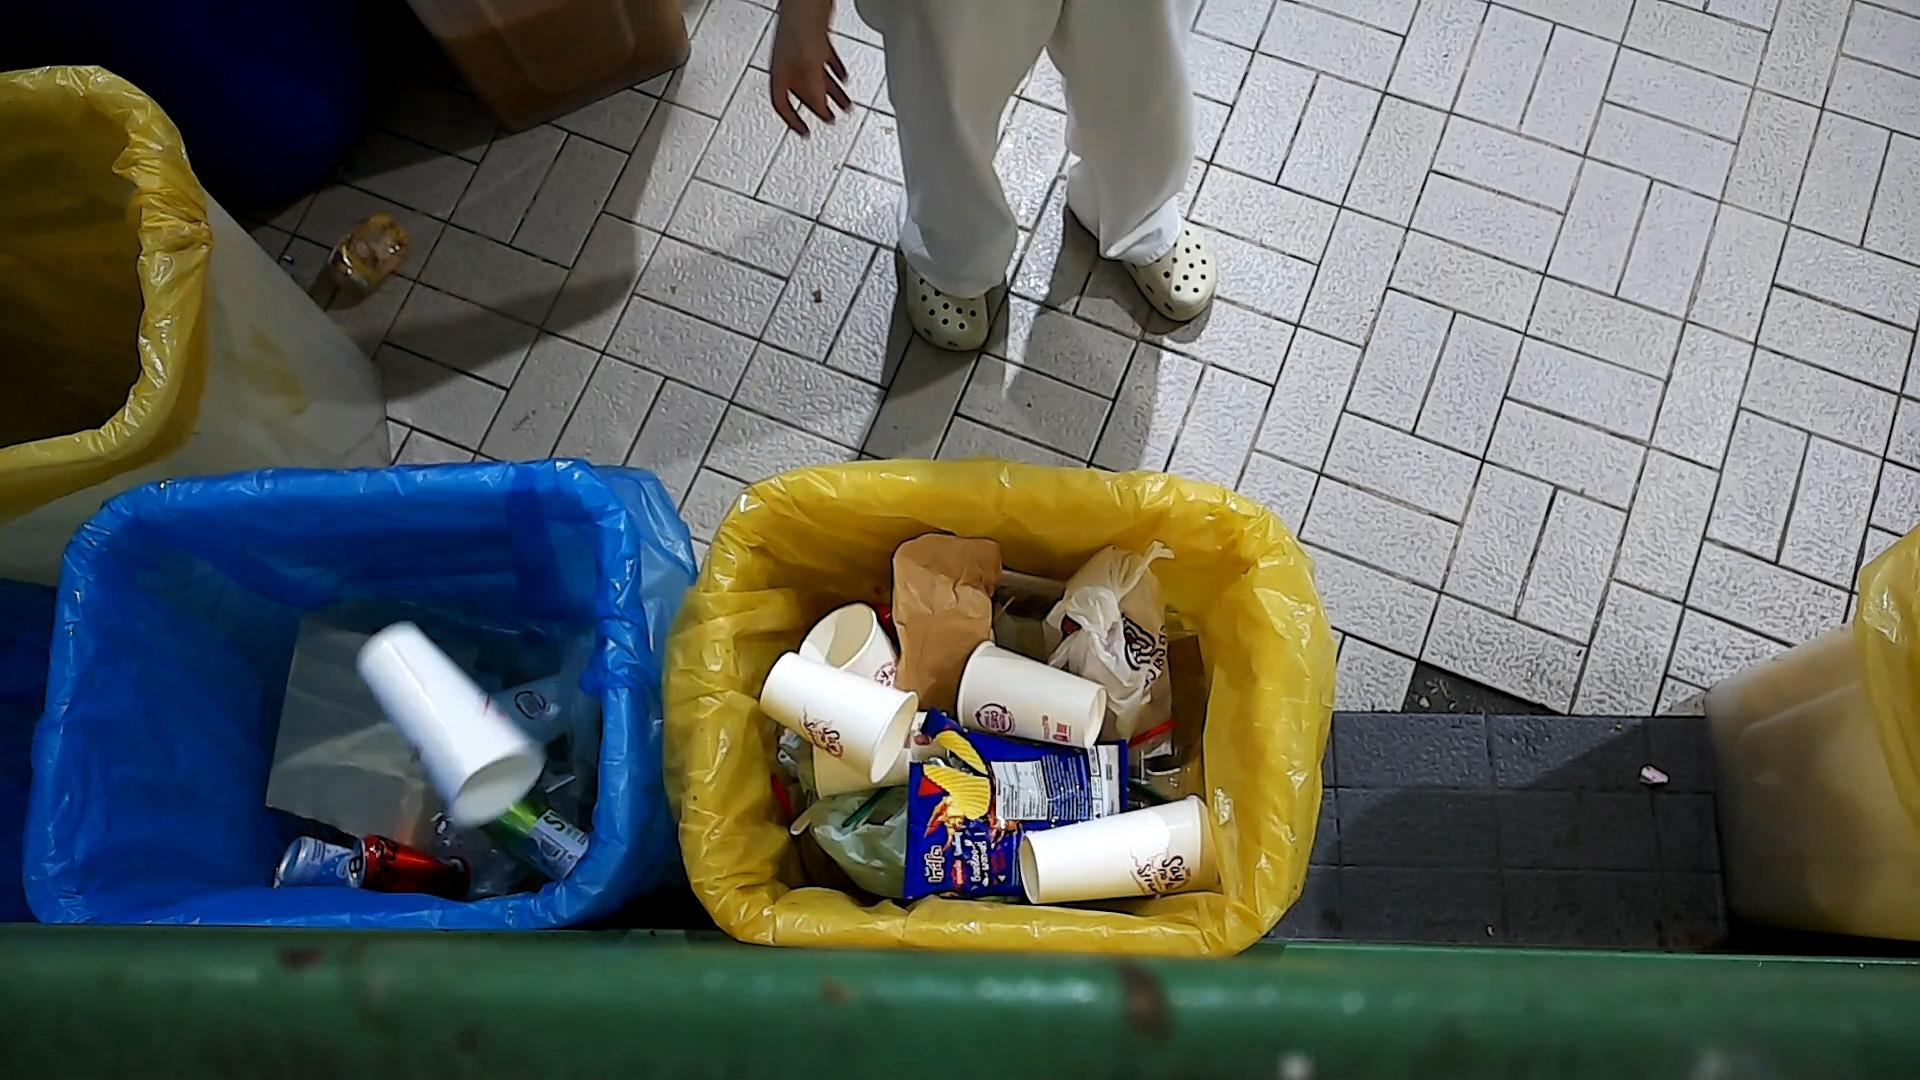can: (476, 785, 592, 886), (345, 829, 479, 902), (272, 829, 355, 890)
filled plastic bag: (1038, 538, 1179, 765)
paper bag: (260, 597, 467, 855), (882, 527, 1004, 707)
snack packaging: (901, 704, 1133, 902)
zero waste cup: (353, 617, 551, 831), (1014, 791, 1225, 910), (754, 646, 919, 790), (951, 637, 1110, 753), (796, 599, 901, 696)
